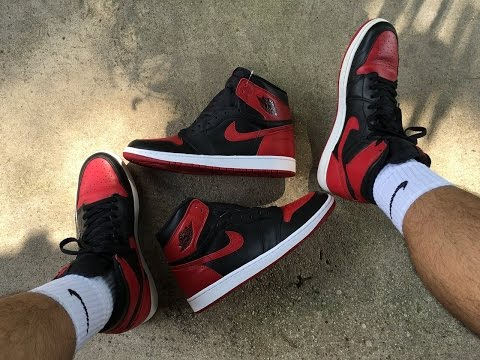Air Jordan 1 Bred: (311, 16, 437, 209), (153, 187, 336, 318), (119, 62, 304, 186), (46, 150, 163, 338)
